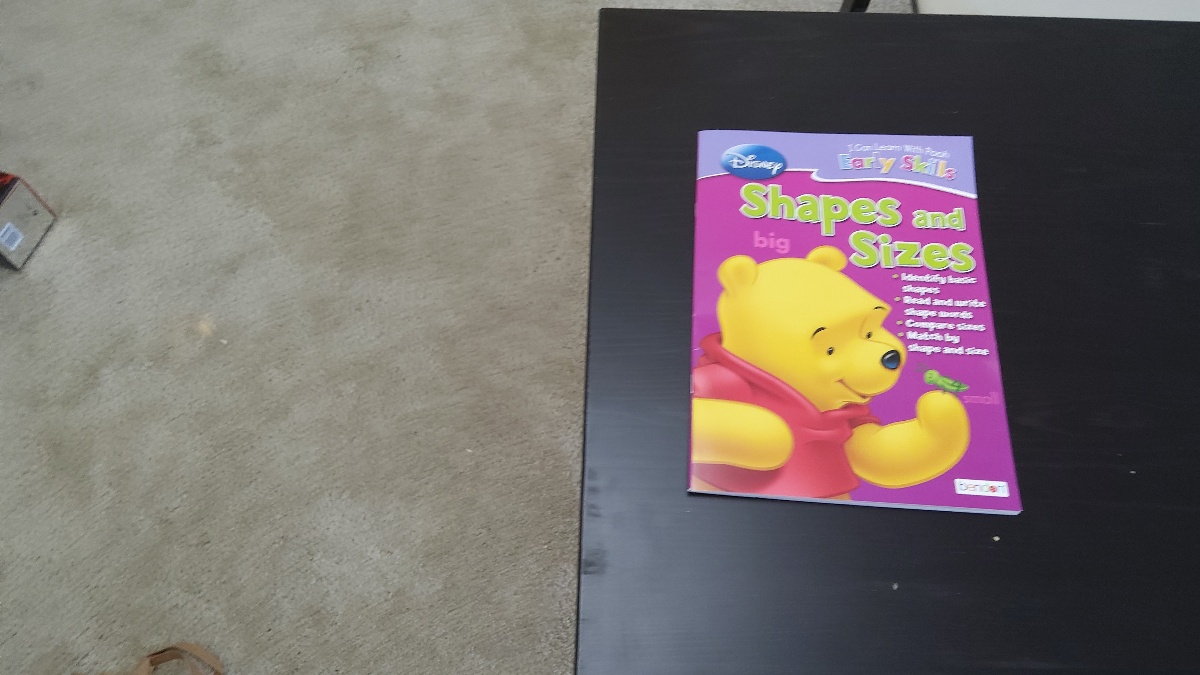book: (682, 126, 1026, 521)
